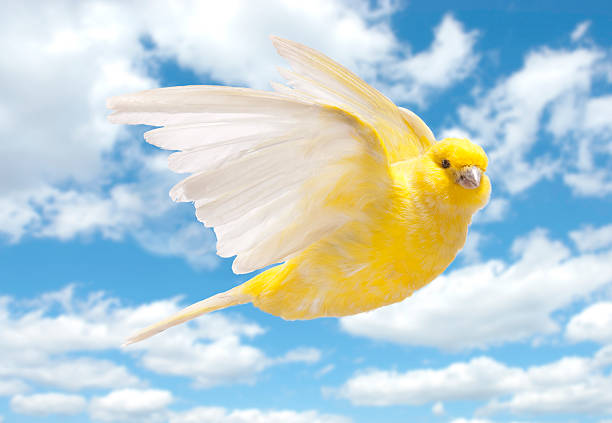Bird: (101, 31, 496, 355)
